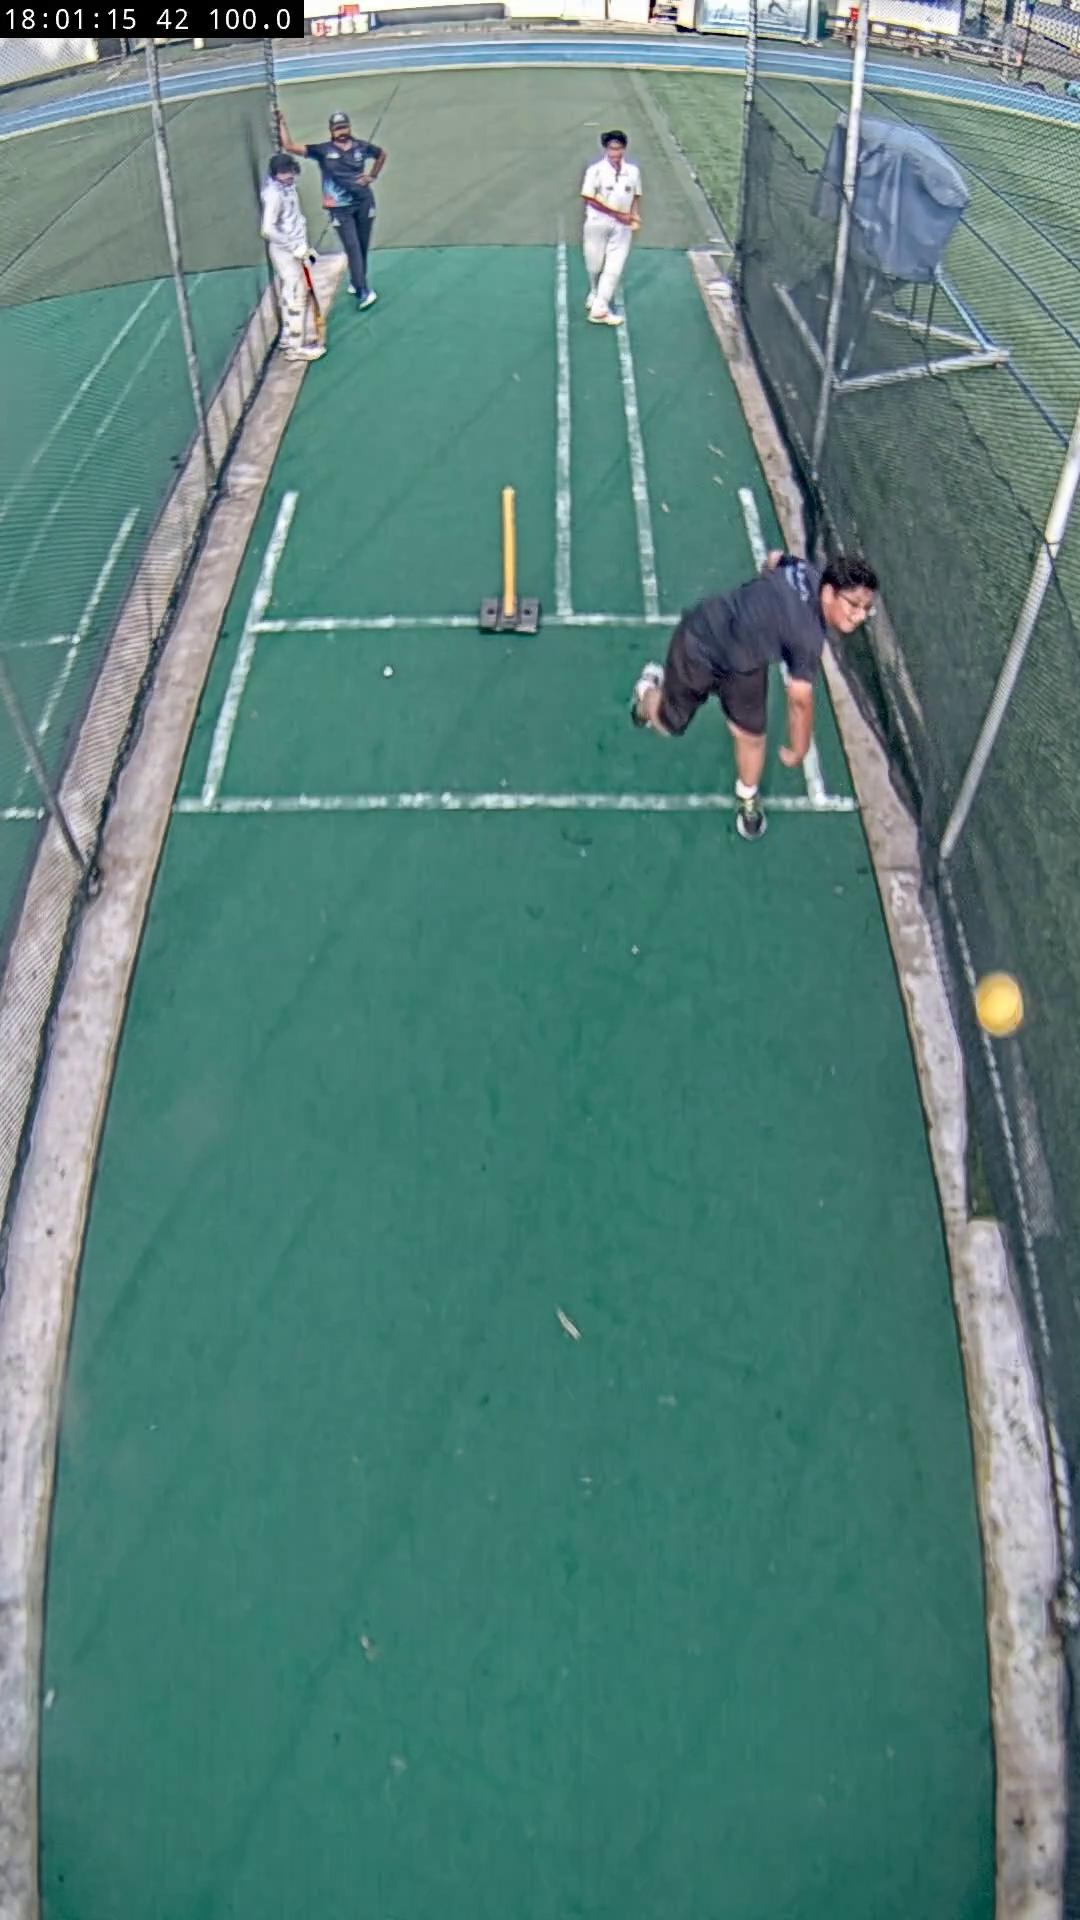ball: (975, 972, 1023, 1039)
stumps: (480, 488, 541, 634)
